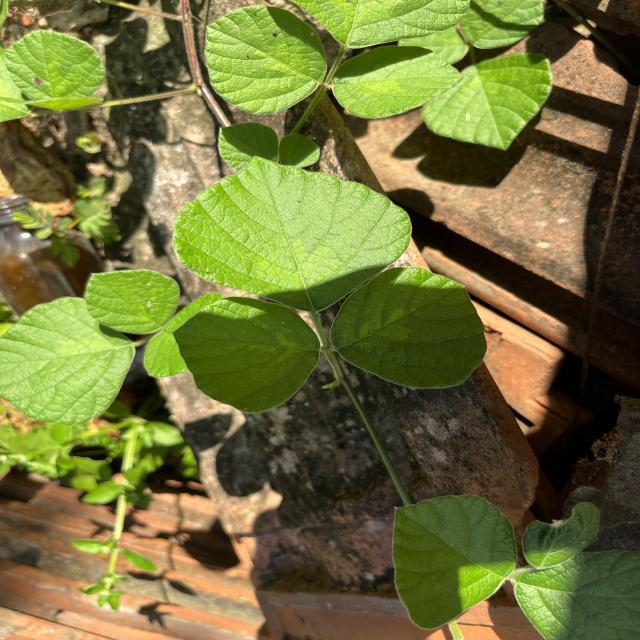Pseudarthria viscida: (169, 153, 489, 415)
